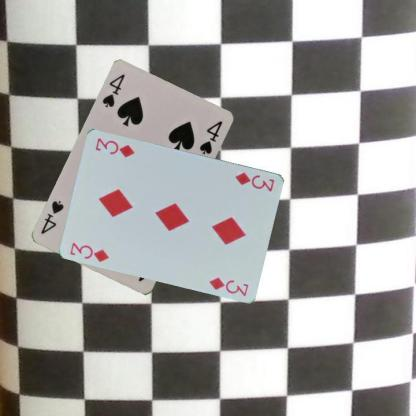3d: (232, 169, 276, 193), (68, 240, 111, 263)
4s: (100, 72, 126, 109)
